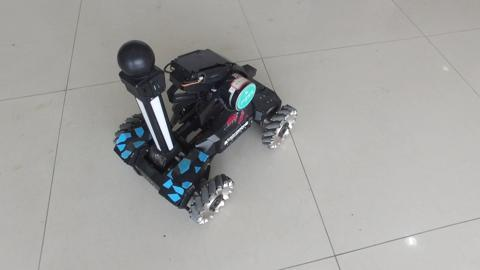chariot: (104, 44, 274, 201)
